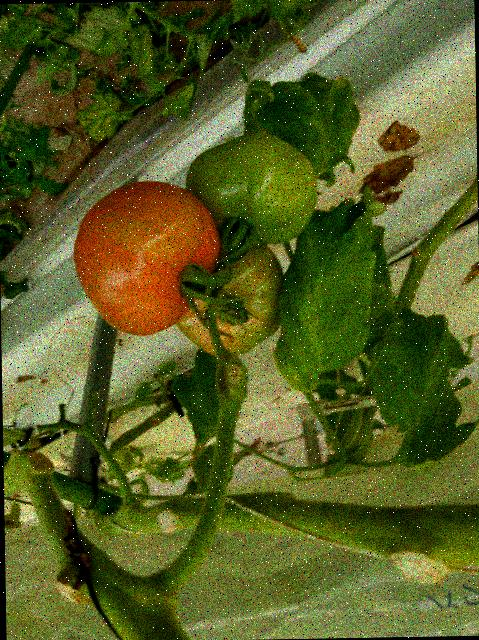b_green: (184, 132, 319, 248), (173, 244, 284, 357)
b_half_ripened: (72, 180, 221, 337)
